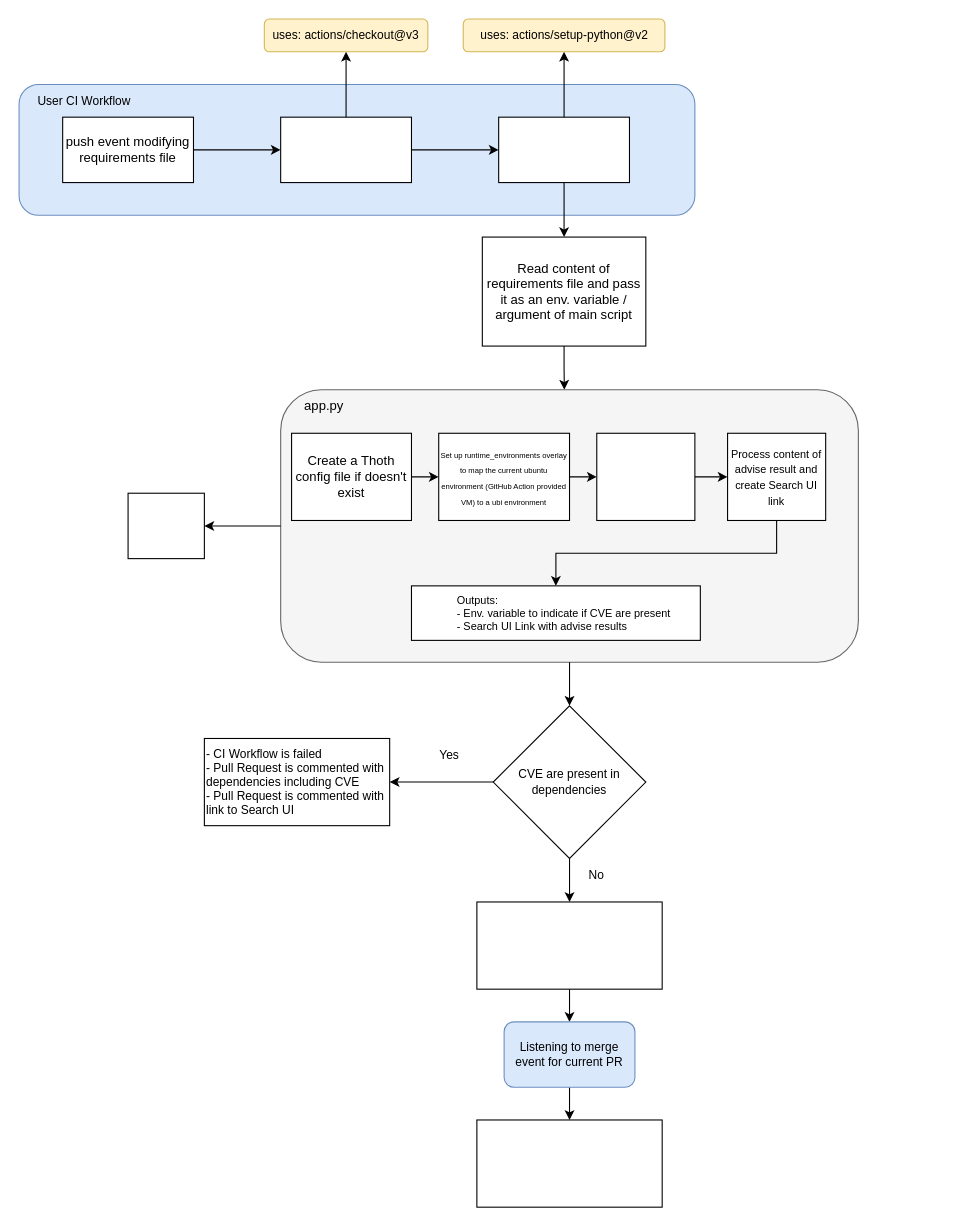
The diagram is 954 pixels wide and 1226 high, and some of its shapes have lost their labels. The shapes that lost their labels are listed below. From the top down, each one's centre as x and y in pixels, then its label:
At pixel 345 149: "Checkout repository".
At pixel 563 149: "Setup Python environment".
At pixel 645 476: "Use Thamos lib to get advise result and analysis_id".
At pixel 165 525: "Log advise results stack info to workflow".
At pixel 569 945: "- CI Workflow is validated - Pull Request is commented with link to Search UI".
At pixel 569 1163: "Dependency health badge is updated with score for new software stack".
